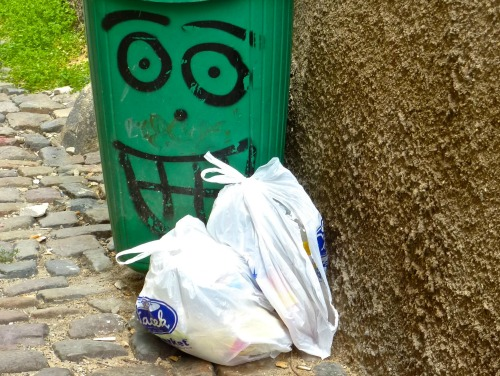plastic_bagwdw: (163, 119, 381, 376), (79, 204, 304, 376)
